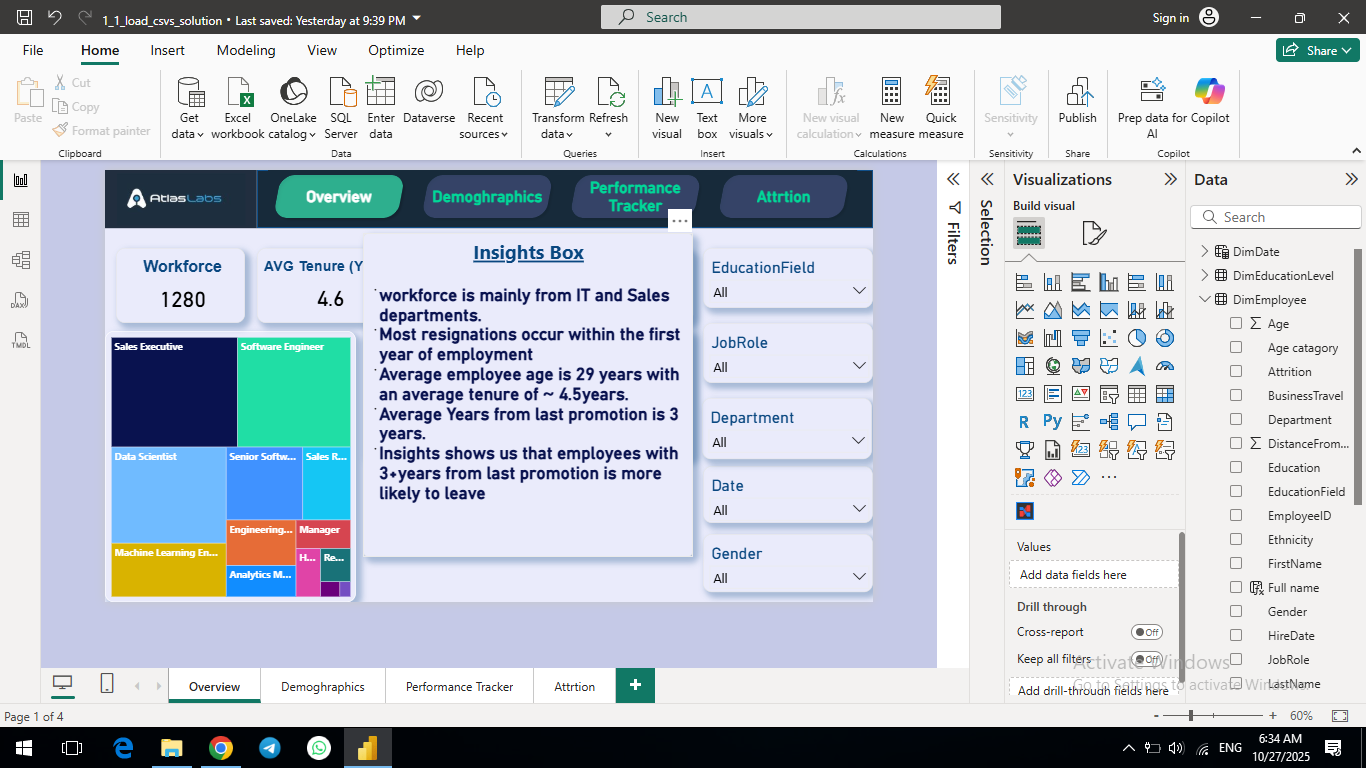

The dashboard page shown, as its layout file describes it:
{"tool":"powerbi","page":{"name":"Overview","canvas":[1280,720],"ordinal":0},"visuals":[{"type":"shape","box":[253.3,0,1026.7,96.7],"z":0},{"type":"image","box":[0,0,253.3,96.7],"z":1000},{"type":"pageNavigator","box":[271.7,0,981.7,88.3],"z":2000},{"type":"actionButton","box":[550,13.3,178.3,75],"z":3000},{"type":"actionButton","box":[801.7,13.3,178.3,75],"z":4000},{"type":"actionButton","box":[1048.3,13.3,178.3,75],"z":5000},{"type":"card","title":"Workforce","fields":{"Values":["___MEASURES.Total employee"]},"box":[18.3,130,215,125],"z":6000},{"type":"card","title":"AVG Tenure (Years)","fields":{"Values":["___MEASURES.AVG Tenure"]},"box":[253.3,130,238.3,125],"z":7000},{"type":"treemap","fields":{"Group":["DimEmployee.JobRole"],"Values":["DimEmployee.EmployeeID"]},"box":[0,268.3,418.3,451.7],"z":8000},{"type":"slicer","title":"Date","fields":{"Values":["DimDate.Year","DimDate.MonthNumber"]},"box":[996.7,493.3,283.3,95],"z":9000},{"type":"slicer","fields":{"Values":["DimEmployee.Gender"]},"box":[996.7,606.7,283.3,96.7],"z":10000},{"type":"slicer","fields":{"Values":["DimEmployee.Department"]},"box":[995,380,283.3,101.7],"z":11000},{"type":"slicer","fields":{"Values":["DimEmployee.JobRole"]},"box":[996.7,255,283.3,100],"z":12000},{"type":"slicer","fields":{"Values":["DimEmployee.EducationField"]},"box":[996.7,130,283.3,100],"z":13000},{"type":"card","title":"Attrition %","fields":{"Values":["___MEASURES.Attriton Rate %"]},"box":[506.7,130,221.7,125],"z":14000},{"type":"card","title":"AVG Age","fields":{"Values":["DimEmployee.Age"]},"box":[748.3,130,231.7,125],"z":15000},{"type":"barChart","title":"AR by Department","fields":{"Y":["DimEmployee.Attrition"],"Category":["DimEmployee.Department"]},"box":[430,268.3,550,213.3],"z":16000},{"type":"textbox","box":[430,493.3,550,226.7],"z":17000}]}

Visuals, with their boxes on the page's 1280x720 design canvas (x1, y1, x2, y2). These are canvas units, not pixel positions in the 1366x768 screenshot, which may show the page scaled, cropped or inside an application window:
shape: x1=253, y1=0, x2=1280, y2=97
image: x1=0, y1=0, x2=253, y2=97
pageNavigator: x1=272, y1=0, x2=1253, y2=88
actionButton: x1=550, y1=13, x2=728, y2=88
actionButton: x1=802, y1=13, x2=980, y2=88
actionButton: x1=1048, y1=13, x2=1227, y2=88
"Workforce" card: x1=18, y1=130, x2=233, y2=255
"AVG Tenure (Years)" card: x1=253, y1=130, x2=492, y2=255
treemap - DimEmployee.JobRole x DimEmployee.EmployeeID: x1=0, y1=268, x2=418, y2=720
"Date" slicer: x1=997, y1=493, x2=1280, y2=588
slicer - DimEmployee.Gender: x1=997, y1=607, x2=1280, y2=703
slicer - DimEmployee.Department: x1=995, y1=380, x2=1278, y2=482
slicer - DimEmployee.JobRole: x1=997, y1=255, x2=1280, y2=355
slicer - DimEmployee.EducationField: x1=997, y1=130, x2=1280, y2=230
"Attrition %" card: x1=507, y1=130, x2=728, y2=255
"AVG Age" card: x1=748, y1=130, x2=980, y2=255
"AR by Department" barChart: x1=430, y1=268, x2=980, y2=482
textbox: x1=430, y1=493, x2=980, y2=720
